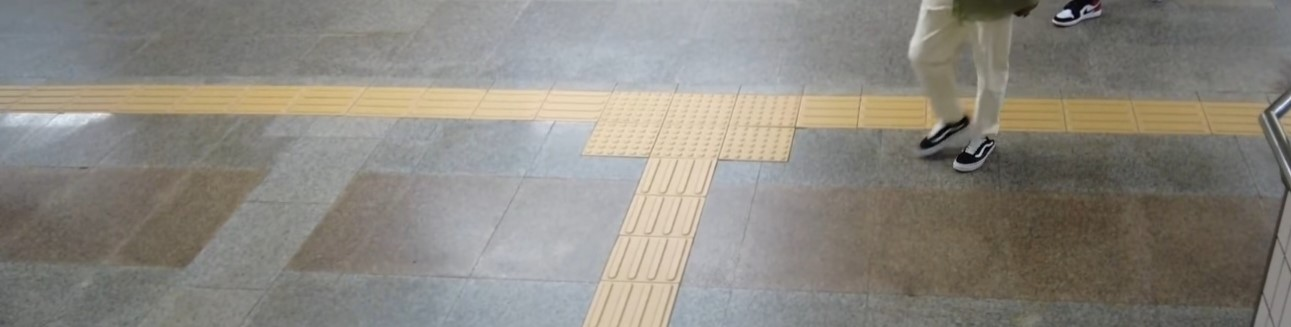guideBlock: (1207, 106, 1291, 150), (1067, 97, 1142, 140), (595, 283, 668, 327), (992, 91, 1070, 132), (615, 238, 687, 279), (634, 195, 698, 237), (1135, 97, 1207, 134), (485, 90, 554, 125), (645, 160, 712, 194), (545, 88, 605, 116)
warningBlock: (598, 112, 666, 164), (726, 127, 800, 167), (673, 92, 743, 124), (615, 80, 673, 115), (664, 124, 728, 155), (738, 95, 789, 122)
